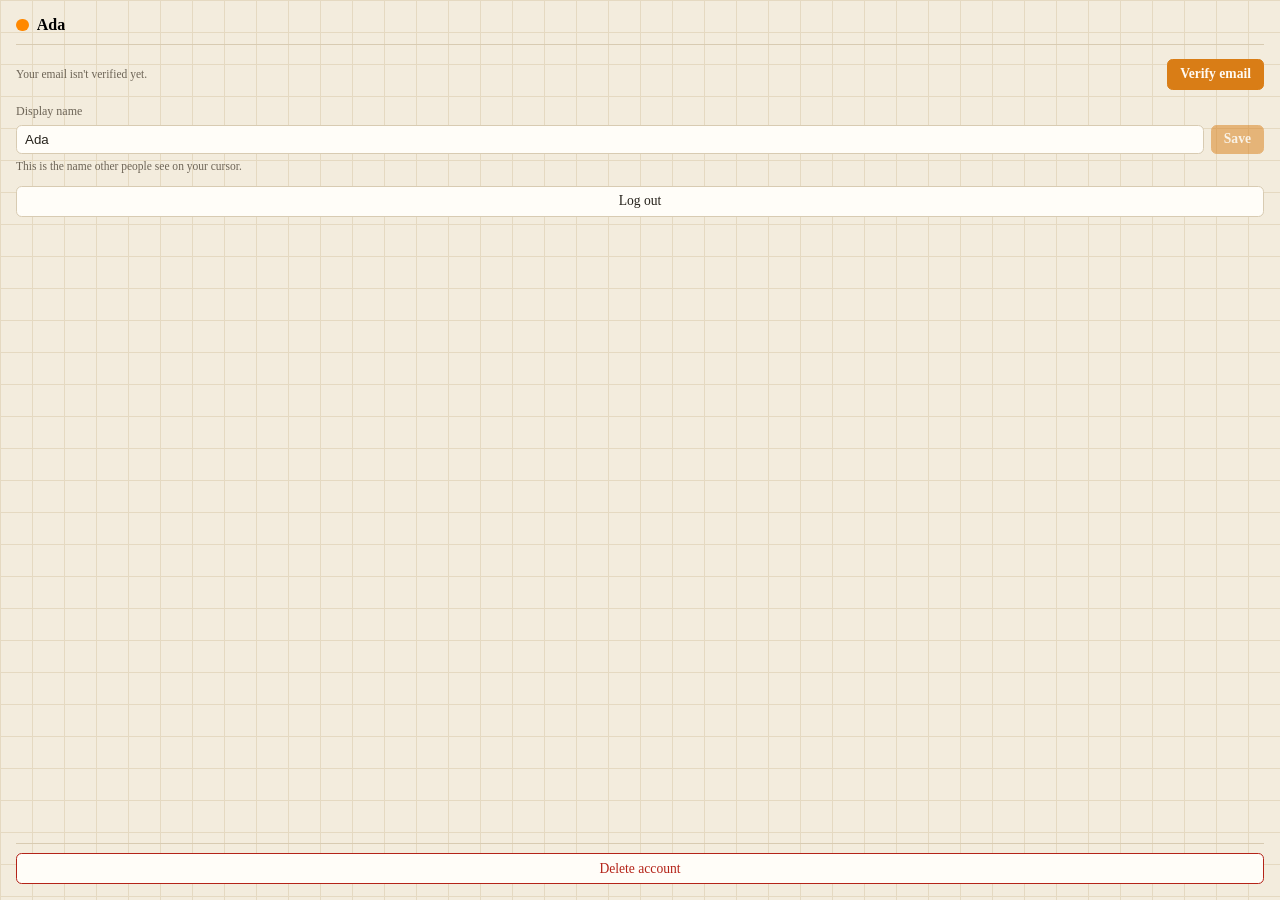
AccountTab email verification › reports a verification send failure
The image size is (1280, 900).
Click the button "Verify email" at point(1216, 74), box [1167,59,1264,90]
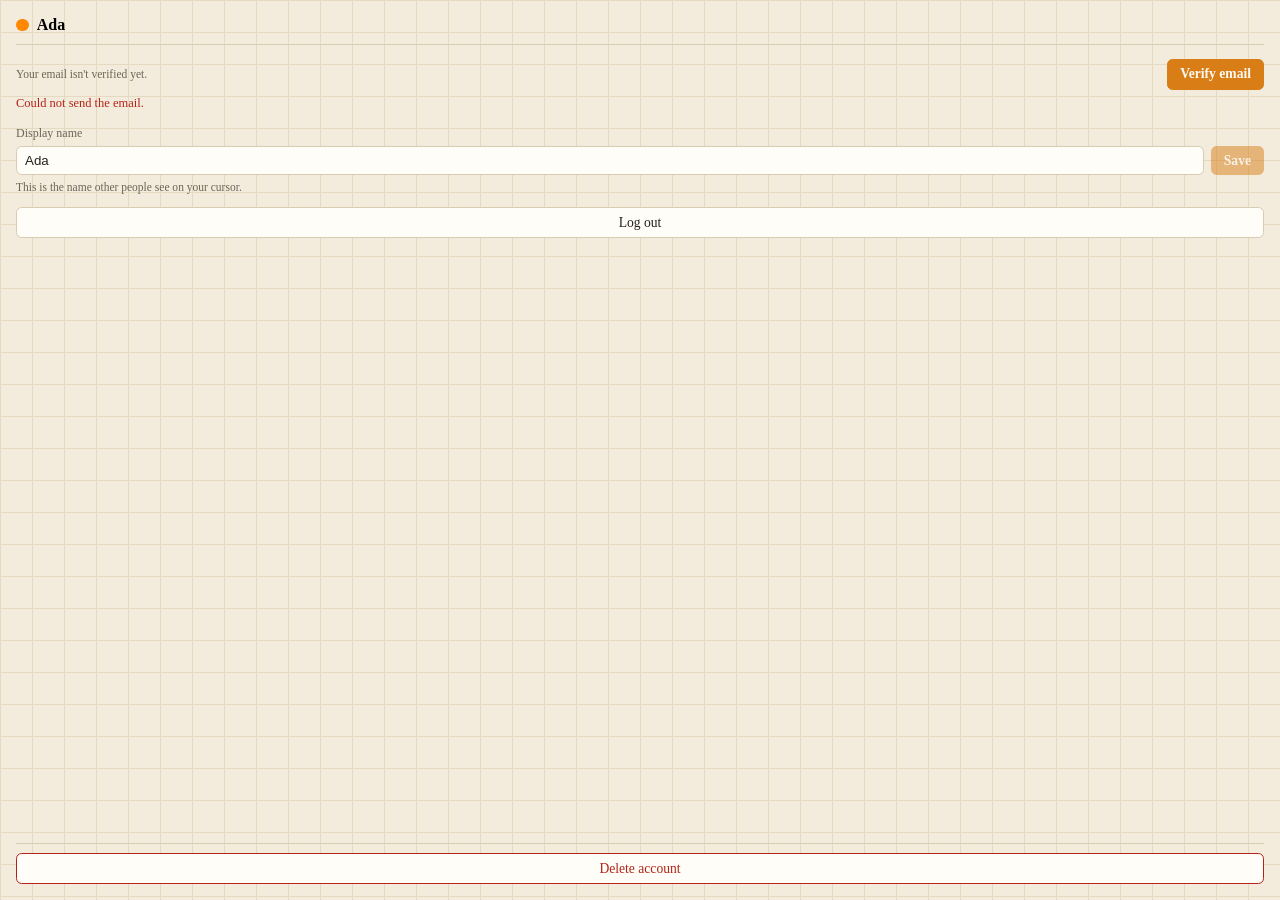
Check: the message reads "Could not send the email.", box [16,96,144,110]
